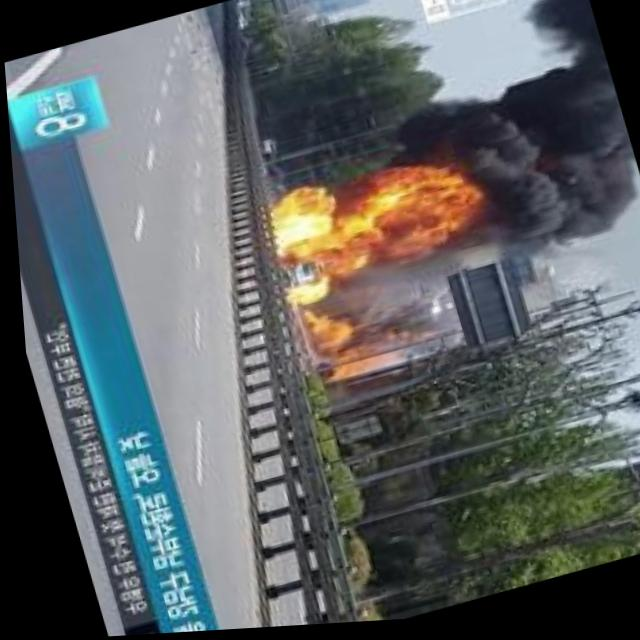Fire: (260, 151, 478, 289), (296, 312, 348, 354), (281, 282, 320, 310)
